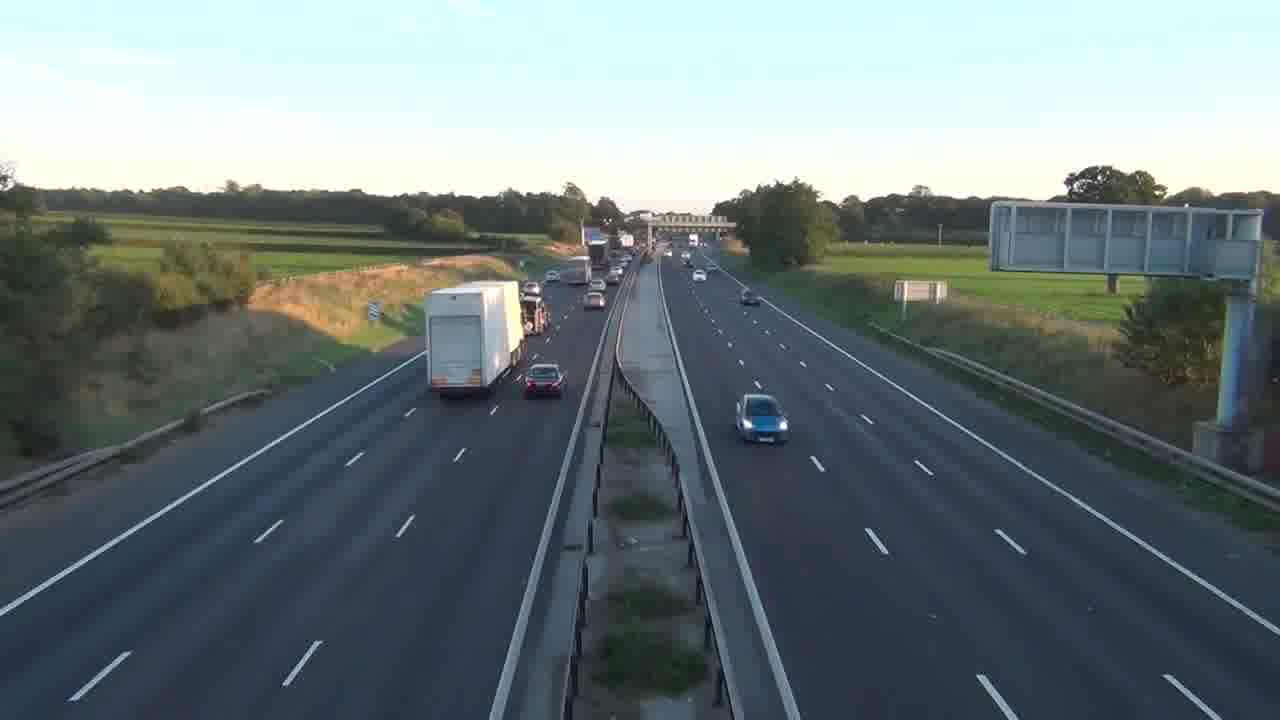car: (735, 392, 790, 445), (524, 362, 565, 399)
truck: (424, 281, 521, 399)
